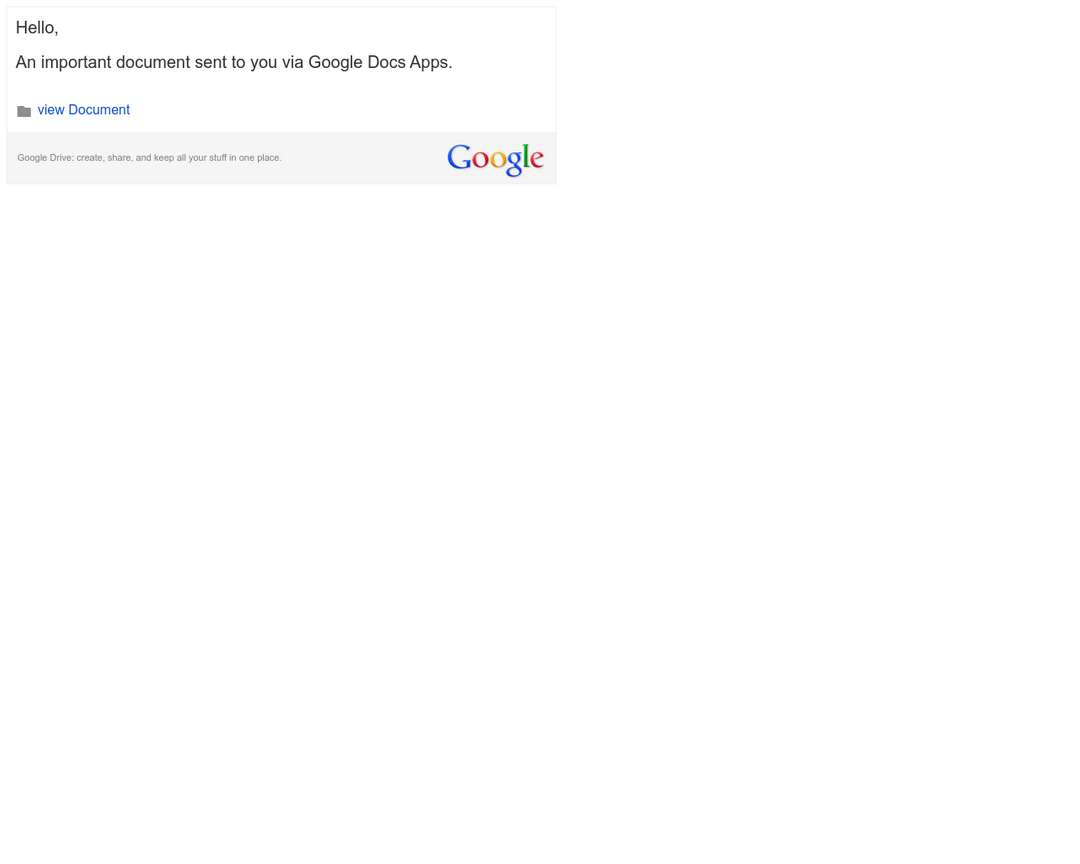Google: (442, 143, 547, 182)
